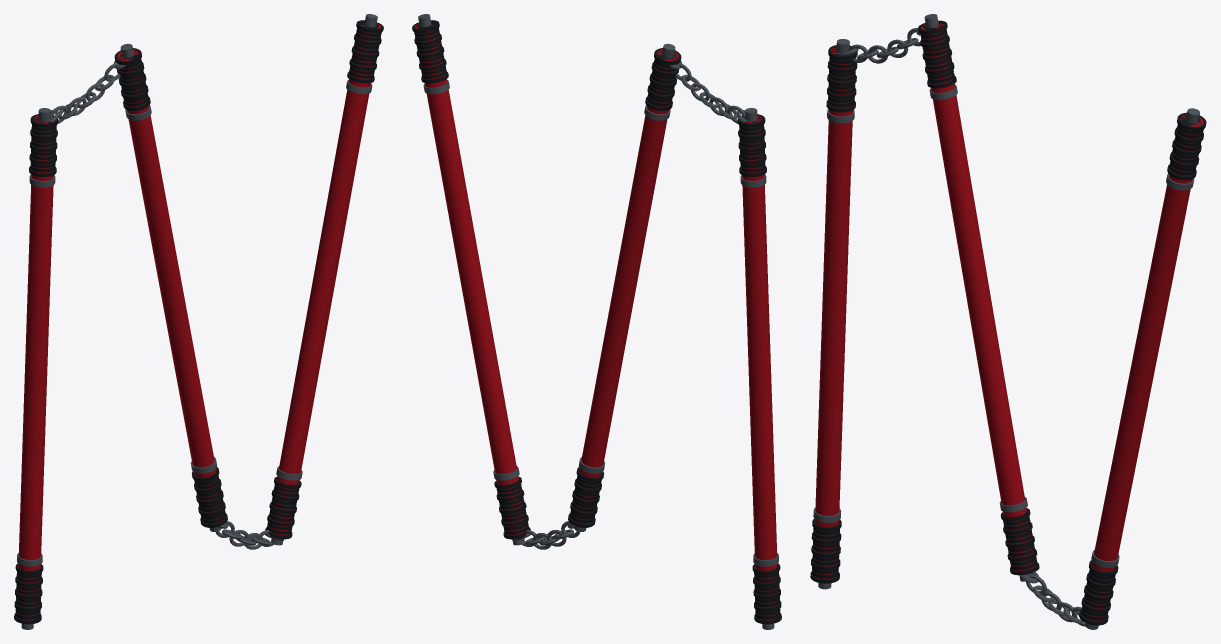
File: playful_cloud.obj
3 renders of one model, left to right at view 1: azimuth 30°, elevation 25°; view 2: azimuth 150°, elevation 25°; view 3: azimuth 330°, elevation 25°, orthographic. The views are drawn at different scales.
Bounding box in the file's own units: 0.822 × 1.2 × 0.0538.
